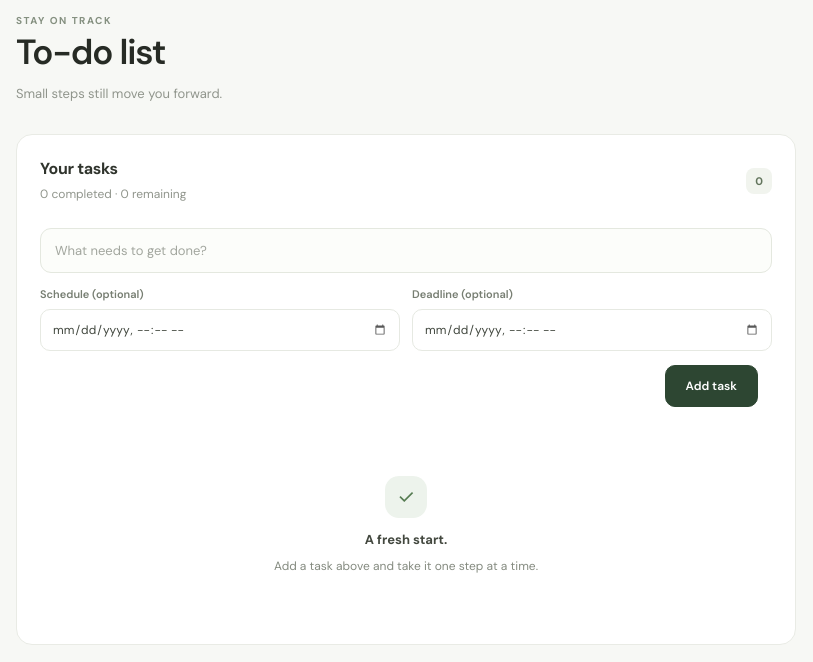
Test: TasksPage › adds a task with a schedule and deadline
Expected: the text "A fresh start." is shown, [365,531,447,548]
Type "Submit project" into the field named "New task".
click(406, 250); type("Submit project")  # box [40,228,772,273]
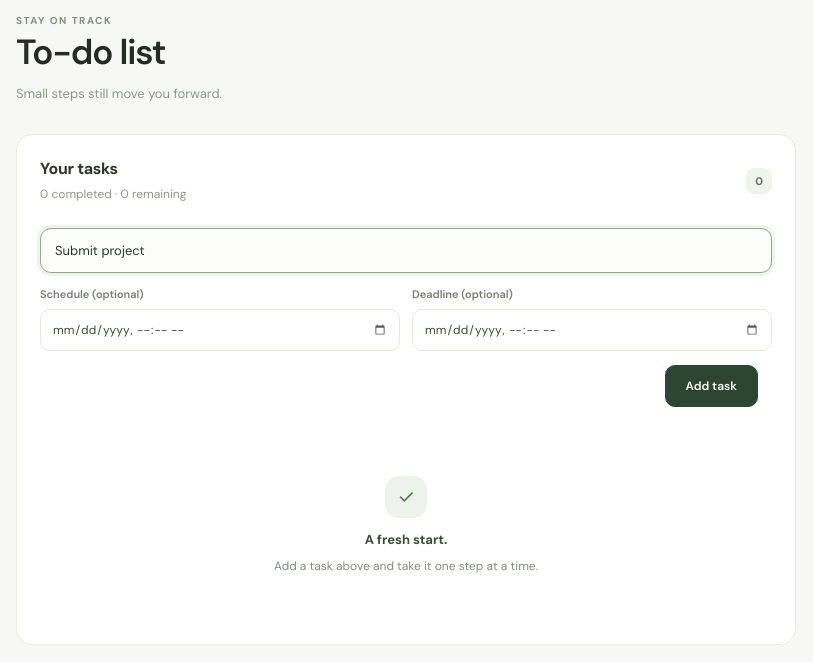
Type "2026-10-15T09:00" into the field named "Task scheduled date and time".
click(220, 330); type("2026-10-15T09:00")  # box [40,309,400,351]
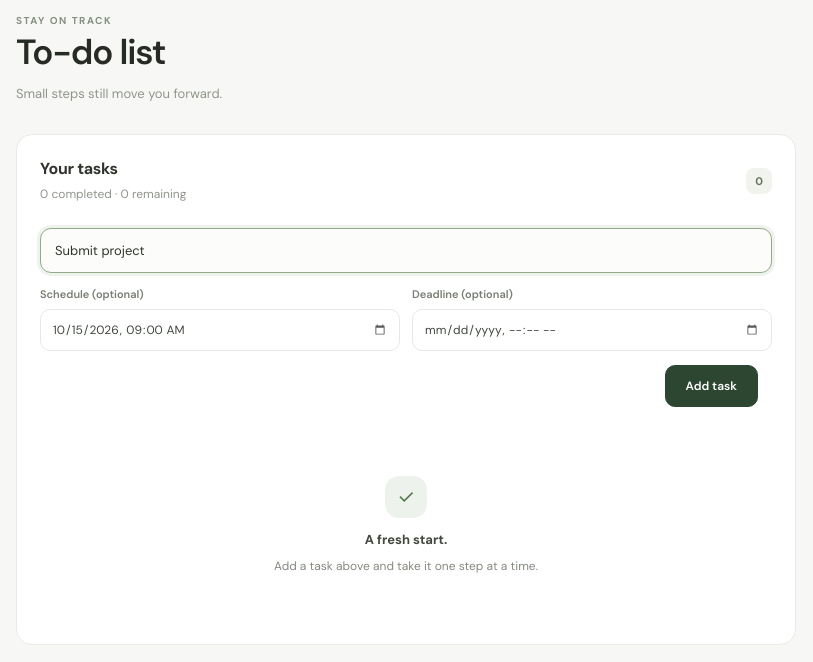
Type "2026-10-16T17:00" into the field named "Task deadline date and time".
click(592, 330); type("2026-10-16T17:00")  # box [412,309,772,351]
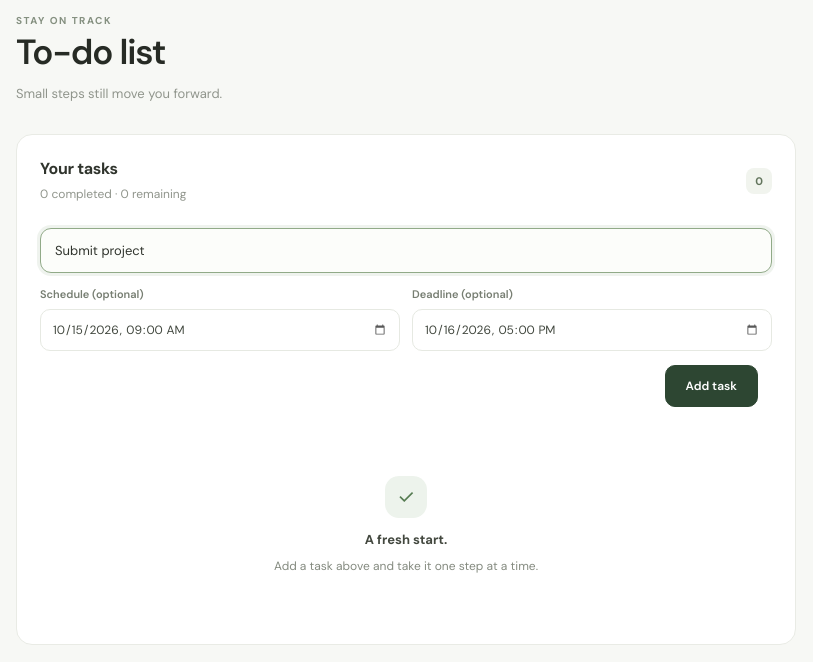
Click the button "Add task".
click(711, 386)  # box [665,365,758,407]
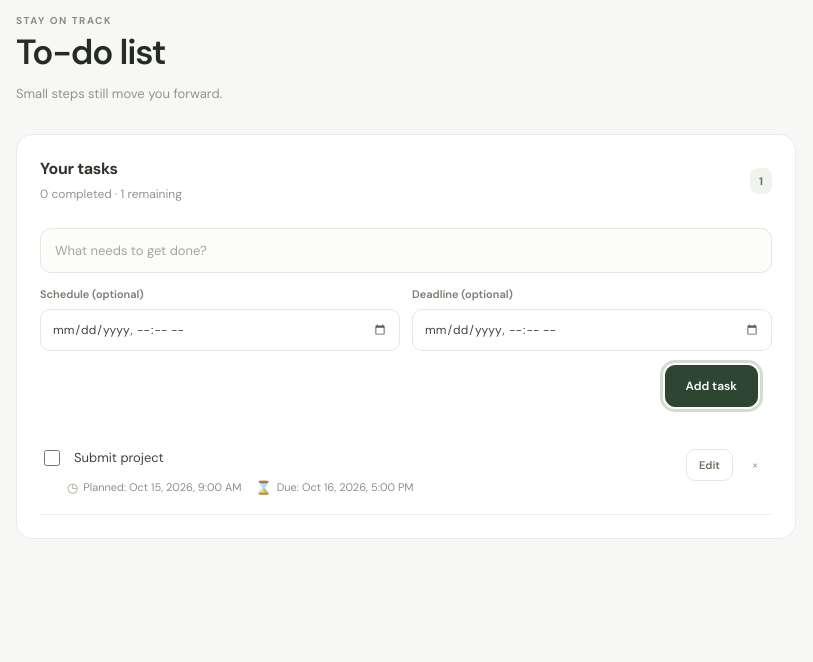
Expected: the text "Submit project" is shown, [74,448,164,469]
